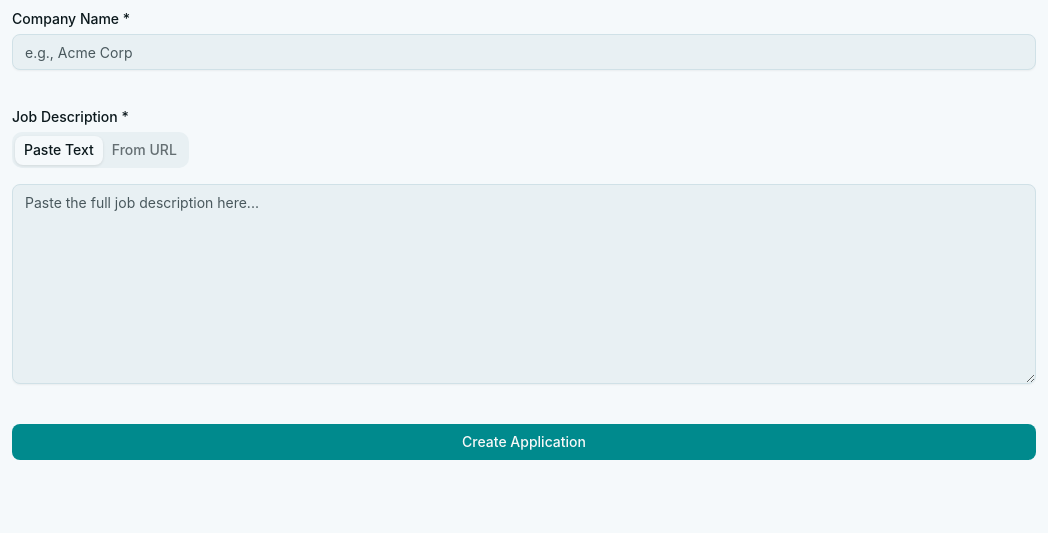
Scenario: JobInputForm › validation › shows validation error for empty company name
Click the button "Create Application" at [524, 442], box [12, 424, 1036, 460]
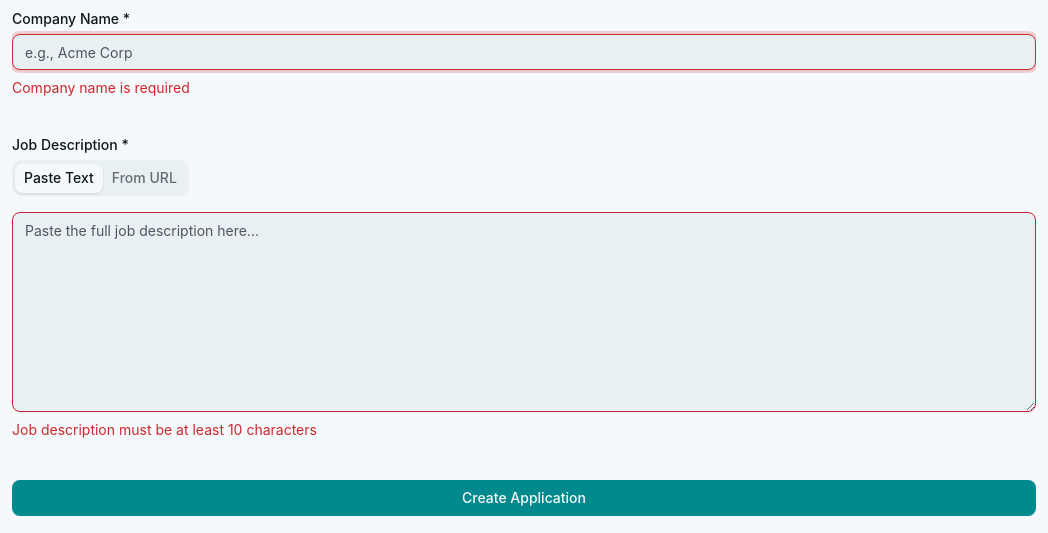
Check: the text "Company name is required" is shown, box [12, 79, 190, 96]
